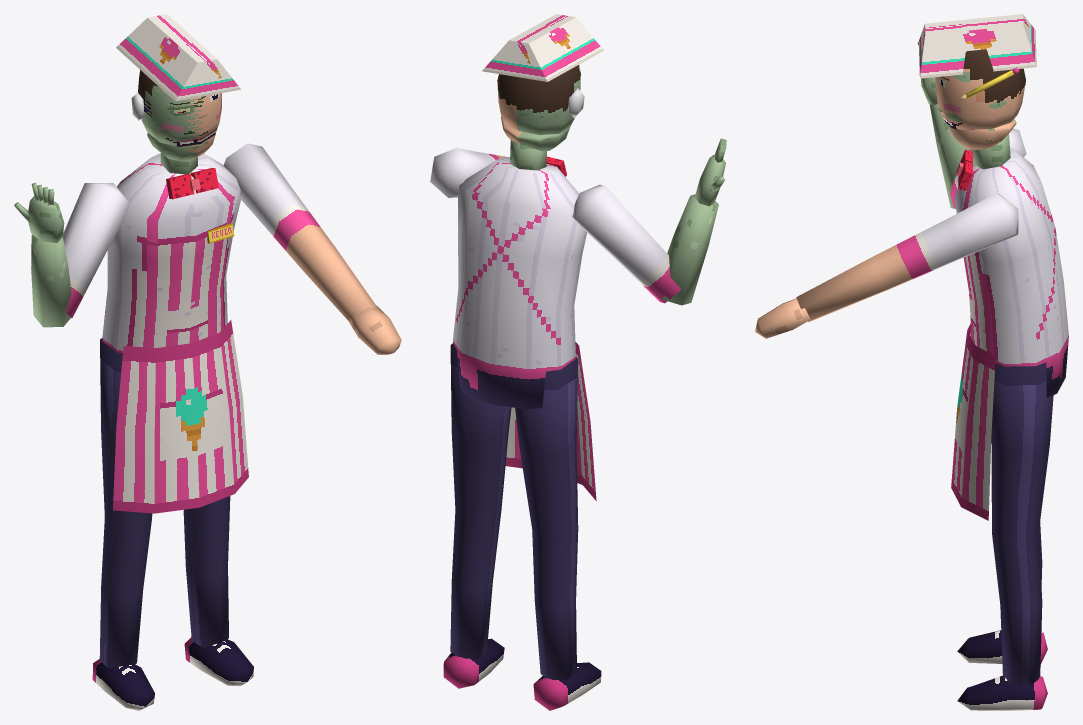
Rendered from Shopkeeper Kevin.fbx.
3 views of the same model, side by side, from view 1: azimuth 30°, elevation 25°; view 2: azimuth 150°, elevation 25°; view 3: azimuth 270°, elevation 25° (orthographic). The views are drawn at different scales.
Parts seen in each view (by area): view 1: Shopkeeper Kevin apron skirt, Shopkeeper Kevin torso, Shopkeeper Kevin trouser R, Shopkeeper Kevin sleeve L, Shopkeeper Kevin trouser L, Shopkeeper Kevin paper hat.001, Shopkeeper Kevin sleeve R, Shopkeeper Kevin cranium, Shopkeeper Kevin forearm R.001, Shopkeeper Kevin shoe L, Shopkeeper Kevin shoe R, Shopkeeper Kevin sleeve L hand (+2 smaller); view 2: Shopkeeper Kevin torso, Shopkeeper Kevin trouser R, Shopkeeper Kevin trouser L, Shopkeeper Kevin sleeve R, Shopkeeper Kevin paper hat.001, Shopkeeper Kevin cranium, Shopkeeper Kevin forearm R.001, Shopkeeper Kevin apron skirt, Shopkeeper Kevin sleeve L, Shopkeeper Kevin shoe R, Shopkeeper Kevin shoe L, Shopkeeper Kevin chin (+2 smaller); view 3: Shopkeeper Kevin torso, Shopkeeper Kevin trouser L, Shopkeeper Kevin sleeve L, Shopkeeper Kevin apron skirt, Shopkeeper Kevin paper hat.001, Shopkeeper Kevin cranium, Shopkeeper Kevin shoe L, Shopkeeper Kevin forearm R.001, Shopkeeper Kevin shoe R, Shopkeeper Kevin sleeve L hand, Shopkeeper Kevin chin, Shopkeeper Kevin neck.
Part boxes in pixels (<box>): Shopkeeper Kevin apron skirt: <box>113,320,248,513</box>; Shopkeeper Kevin torso: <box>102,153,240,353</box>; Shopkeeper Kevin trouser R: <box>99,338,152,667</box>; Shopkeeper Kevin sleeve L: <box>223,143,377,321</box>; Shopkeeper Kevin trouser L: <box>183,496,230,647</box>; Shopkeeper Kevin paper hat.001: <box>116,14,240,101</box>; Shopkeeper Kevin sleeve R: <box>63,183,130,317</box>; Shopkeeper Kevin cranium: <box>138,70,221,146</box>; Shopkeeper Kevin forearm R.001: <box>31,234,71,327</box>; Shopkeeper Kevin shoe L: <box>184,637,253,686</box>; Shopkeeper Kevin shoe R: <box>92,659,154,710</box>; Shopkeeper Kevin sleeve L hand: <box>349,305,401,355</box>; Shopkeeper Kevin torso: <box>453,157,586,409</box>; Shopkeeper Kevin trouser R: <box>515,357,578,679</box>; Shopkeeper Kevin trouser L: <box>450,343,511,658</box>; Shopkeeper Kevin sleeve R: <box>572,184,681,303</box>; Shopkeeper Kevin paper hat.001: <box>482,14,603,81</box>; Shopkeeper Kevin cranium: <box>497,65,580,134</box>; Shopkeeper Kevin forearm R.001: <box>662,194,718,305</box>; Shopkeeper Kevin apron skirt: <box>505,342,596,501</box>; Shopkeeper Kevin sleeve L: <box>430,148,506,197</box>; Shopkeeper Kevin shoe R: <box>533,662,601,710</box>; Shopkeeper Kevin shoe L: <box>443,638,504,688</box>; Shopkeeper Kevin chin: <box>501,116,570,151</box>; Shopkeeper Kevin torso: <box>954,148,1068,397</box>; Shopkeeper Kevin trouser L: <box>991,362,1053,684</box>; Shopkeeper Kevin sleeve L: <box>796,193,1018,321</box>; Shopkeeper Kevin apron skirt: <box>951,323,995,520</box>; Shopkeeper Kevin paper hat.001: <box>918,14,1036,78</box>; Shopkeeper Kevin cranium: <box>935,49,1025,130</box>; Shopkeeper Kevin shoe L: <box>957,675,1047,710</box>; Shopkeeper Kevin forearm R.001: <box>929,104,970,208</box>; Shopkeeper Kevin shoe R: <box>957,630,1047,664</box>; Shopkeeper Kevin sleeve L hand: <box>755,298,810,338</box>; Shopkeeper Kevin chin: <box>948,119,1016,149</box>; Shopkeeper Kevin neck: <box>972,133,1010,169</box>.
Size of the model in its own units: 0.8258 by 1.81 by 0.775.
Materials: 19 (18 with a texture image).
